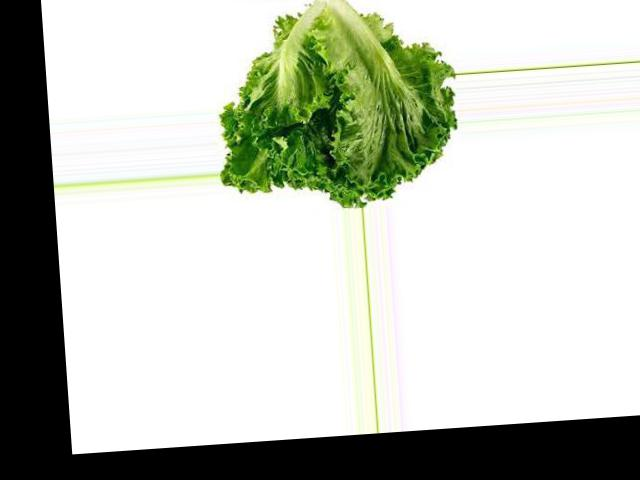lettuce: (188, 100, 364, 210)
